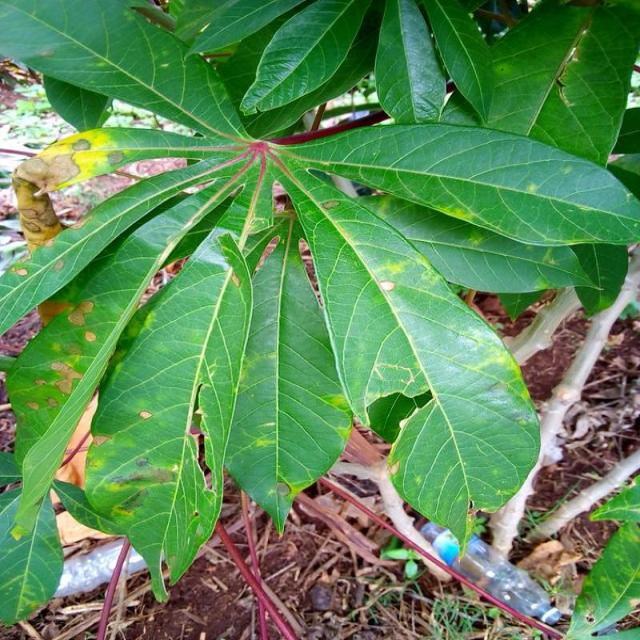cassava leaf: (2, 1, 639, 625), (288, 165, 542, 560), (80, 223, 255, 603), (216, 208, 355, 537)
